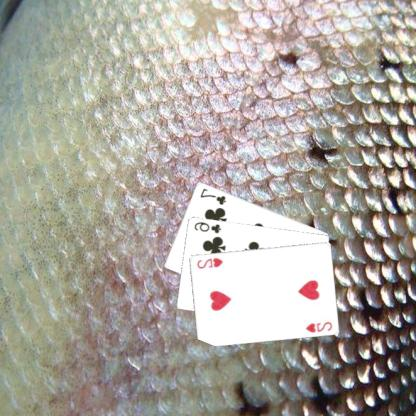2H: (304, 318, 335, 334), (196, 254, 226, 270)
6C: (193, 219, 224, 234)
7C: (200, 185, 230, 206)
